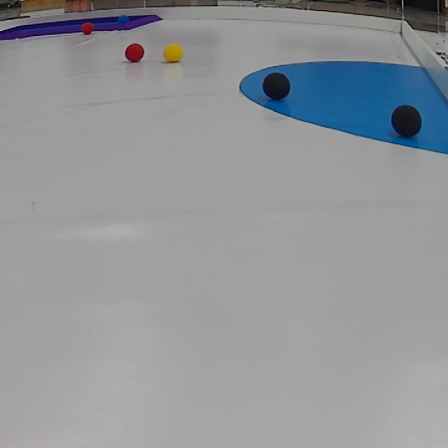black: (261, 72, 291, 101), (390, 105, 420, 133)
blue: (117, 16, 130, 24)
blue_aim: (2, 17, 164, 32)
blue_base: (237, 47, 447, 167)
red: (121, 41, 145, 64), (80, 23, 95, 33)
yellow: (161, 45, 184, 62)
